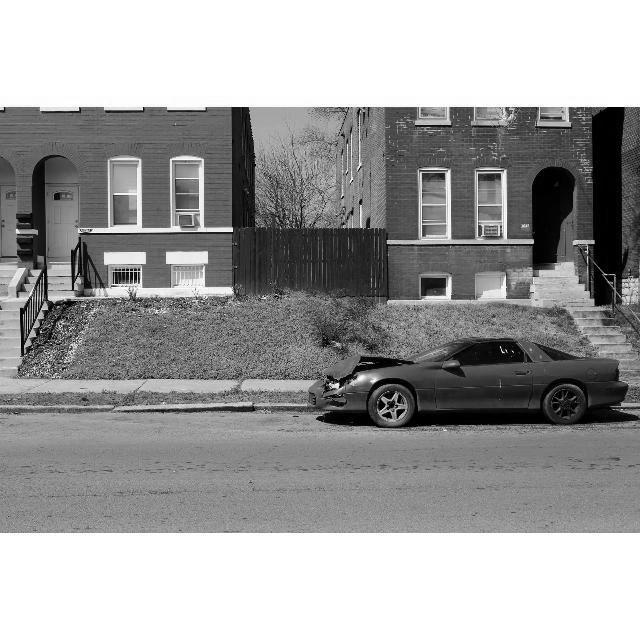boot-dent: (323, 353, 395, 377)
front-bumper-dent: (302, 393, 360, 411)
